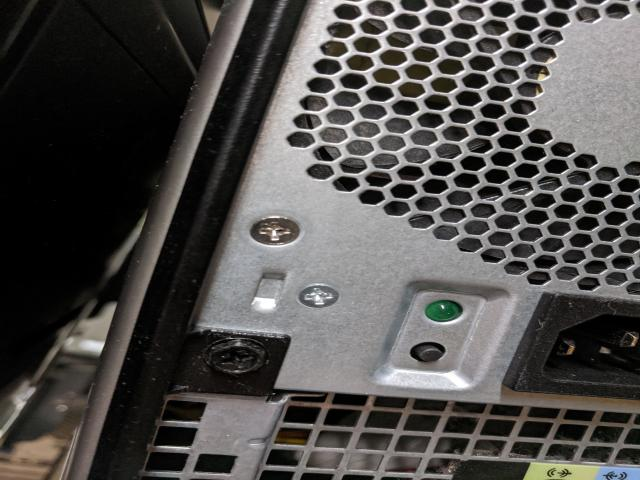CRS: (206, 336, 268, 374), (249, 216, 300, 246), (298, 284, 340, 310)
